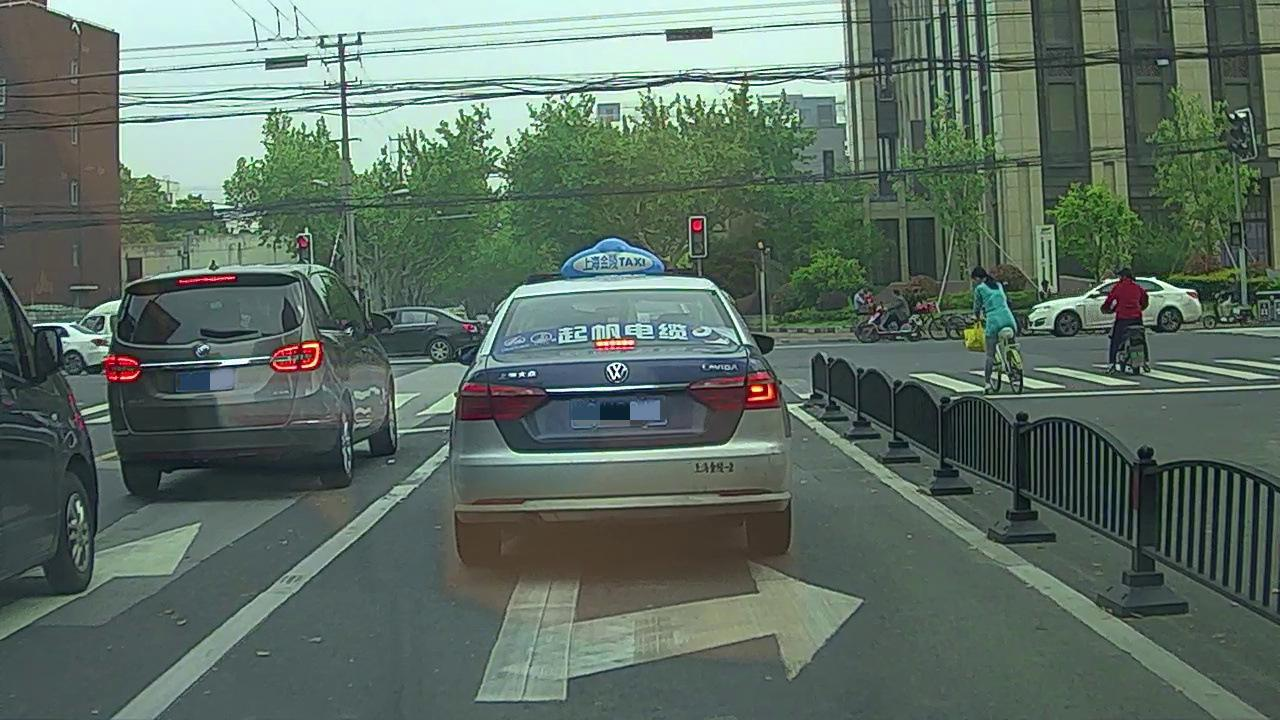traffic_light: (689, 216, 706, 254)
